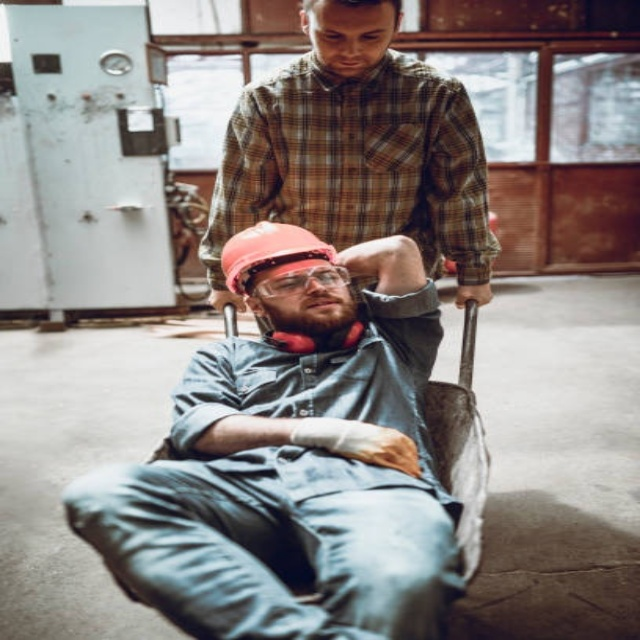Gafas: (250, 265, 353, 300)
Guantes: (289, 415, 424, 480)
Sin_gafas: (314, 21, 387, 45)
Sin_guantes: (209, 286, 247, 320), (453, 278, 493, 309)
Sin_mascara: (295, 294, 350, 325), (329, 55, 364, 74)
